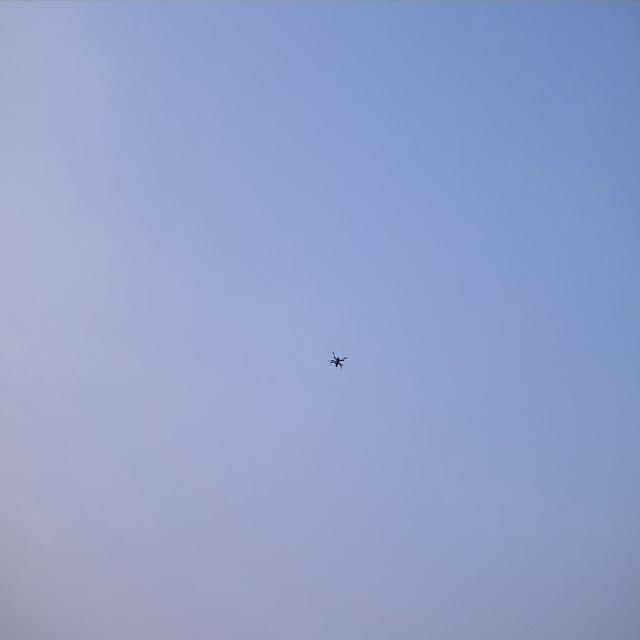UAV: (327, 351, 348, 371)
